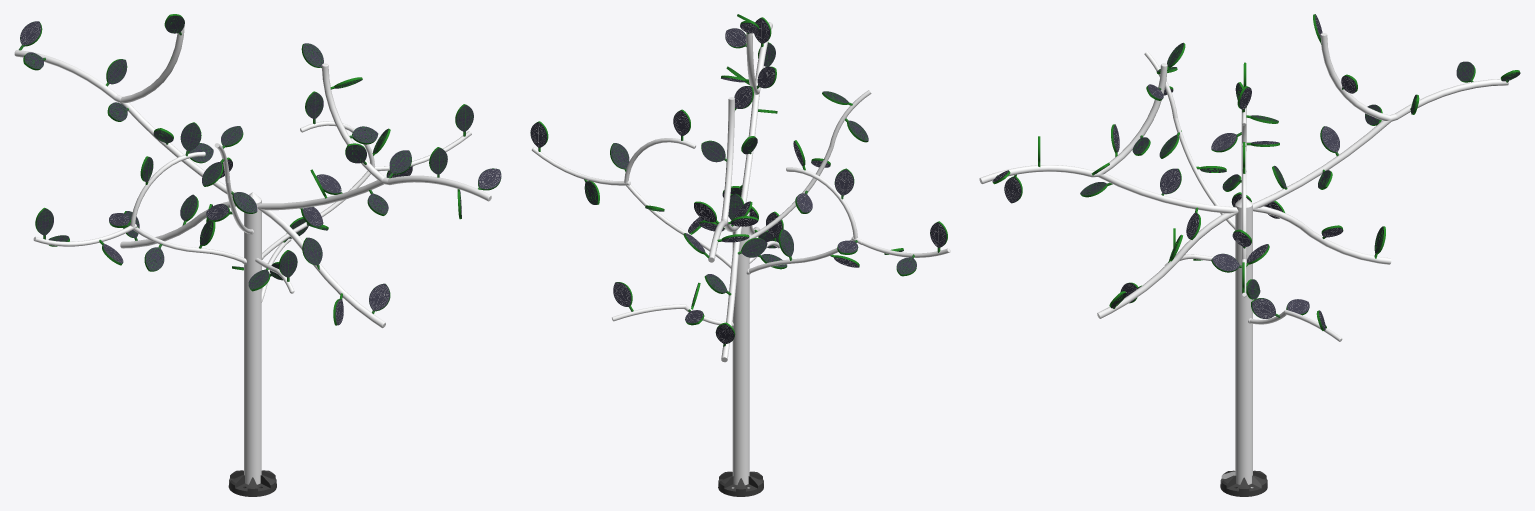
Rendered from træ.glb.
The picture shows the model from 3 angles, left to right: view 1: azimuth 30°, elevation 25°; view 2: azimuth 150°, elevation 25°; view 3: azimuth 270°, elevation 25°; orthographic projection. The views are drawn at different scales.
Parts seen in each view (by area): view 1: Solid8, Solid2, Solid5, Solid9, Solid13; view 2: Solid2, Solid8, Solid5, Solid13, Solid11, Solid6; view 3: Solid8, Solid2, Solid5, Solid13, Solid9.
Part boxes in pixels (bbox=[...]): Solid8: bbox=[14, 20, 385, 328]; Solid2: bbox=[228, 192, 276, 496]; Solid5: bbox=[130, 121, 471, 262]; Solid9: bbox=[382, 175, 491, 201]; Solid13: bbox=[214, 143, 252, 233]; Solid2: bbox=[718, 212, 763, 496]; Solid8: bbox=[708, 32, 759, 362]; Solid5: bbox=[531, 138, 857, 273]; Solid13: bbox=[749, 90, 871, 238]; Solid11: bbox=[612, 304, 725, 325]; Solid6: bbox=[862, 240, 950, 257]; Solid8: bbox=[1097, 33, 1508, 318]; Solid2: bbox=[1220, 198, 1267, 496]; Solid5: bbox=[1241, 108, 1246, 297]; Solid13: bbox=[1144, 51, 1235, 229]; Solid9: bbox=[979, 165, 1099, 184].
Size of the model in its own units: 8.42 by 8.45 by 9.12.
Materials: 5 (1 with a texture image).
